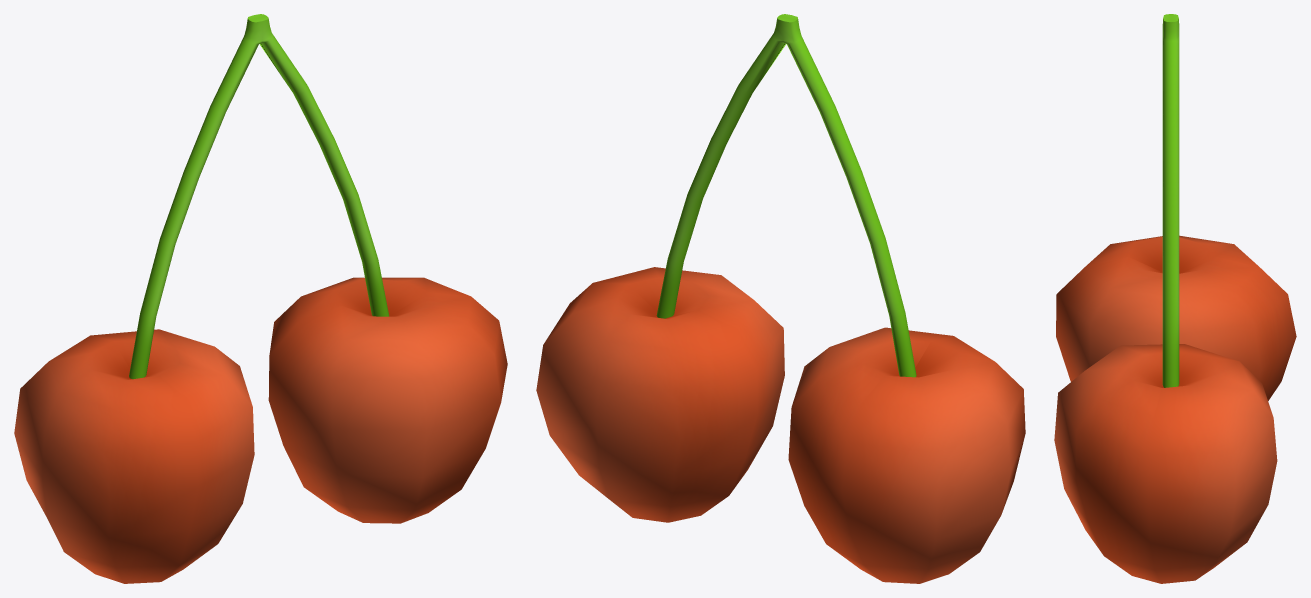
File: ENV1810008.fbx
3 views of the same model, side by side, from view 1: azimuth 30°, elevation 25°; view 2: azimuth 150°, elevation 25°; view 3: azimuth 270°, elevation 25° (orthographic). The views are drawn at different scales.
Parts seen in each view (by area): view 1: smENV1810008; view 2: smENV1810008; view 3: smENV1810008.
Boxes of the visible parts, x1,y1,x2,y2 form: smENV1810008: (14, 14, 507, 583); smENV1810008: (536, 14, 1025, 583); smENV1810008: (1054, 14, 1296, 583).
Size of the model in its own units: 6.55 by 7.15 by 3.17.
Materials: 1 (1 with a texture image).
